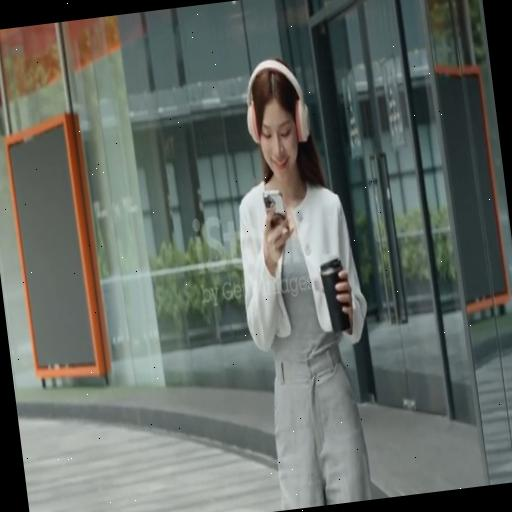earphone: (236, 46, 317, 152)
